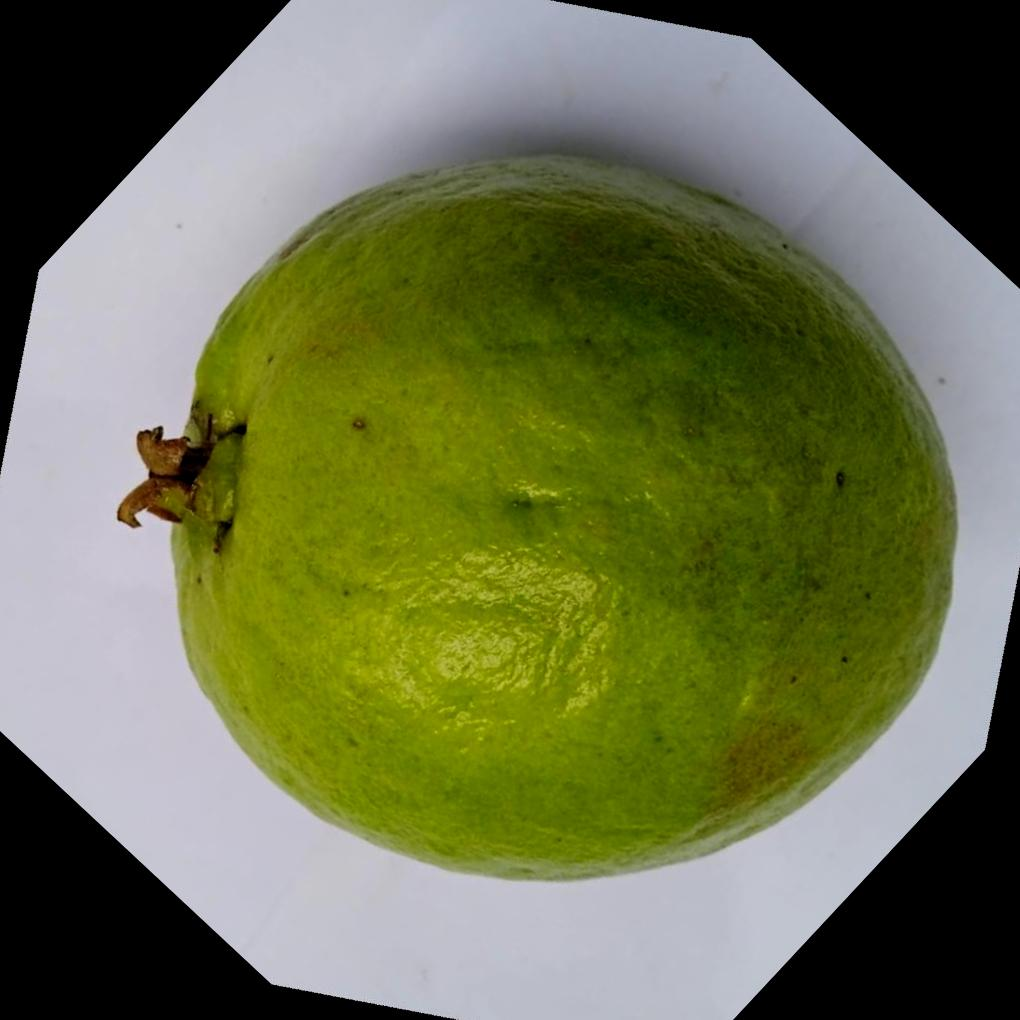FreshGuava: (116, 146, 964, 884)
